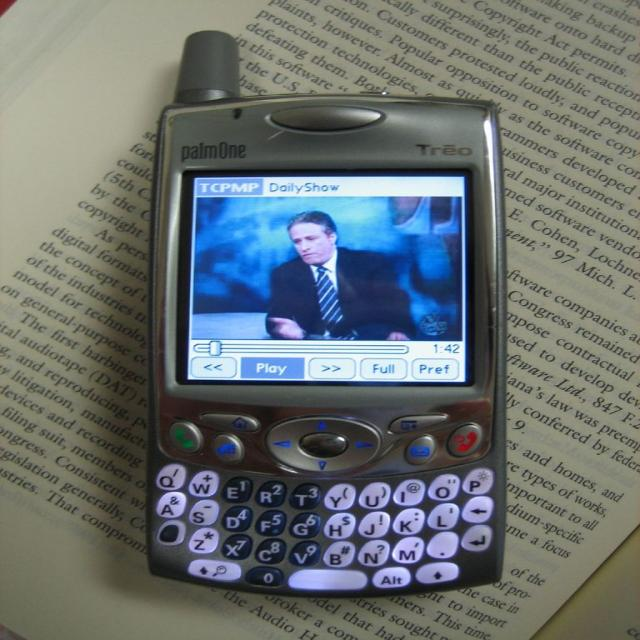Mobile-phone: (104, 60, 530, 587)
